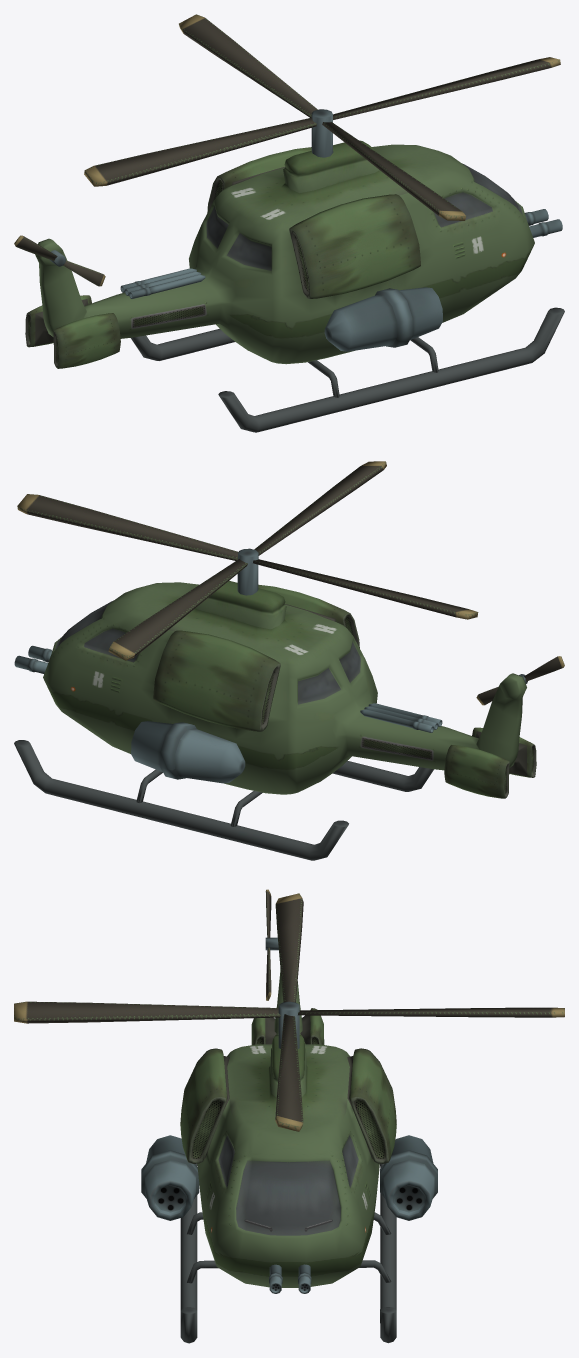
The model's file is RipScript.fbx.
3 views of the same model, one above another, from view 1: azimuth 30°, elevation 25°; view 2: azimuth 150°, elevation 25°; view 3: azimuth 270°, elevation 25° (orthographic). The views are drawn at different scales.
Parts seen in each view (by area): view 1: Null; view 2: Null; view 3: Null.
Part boxes in pixels (x1,y1,x2,y2): Null: (14,14,564,432); Null: (14,461,564,860); Null: (14,889,564,1343).
Bounding box in the file's own units: 650 × 288 × 550.
1 material, 1 textured.
